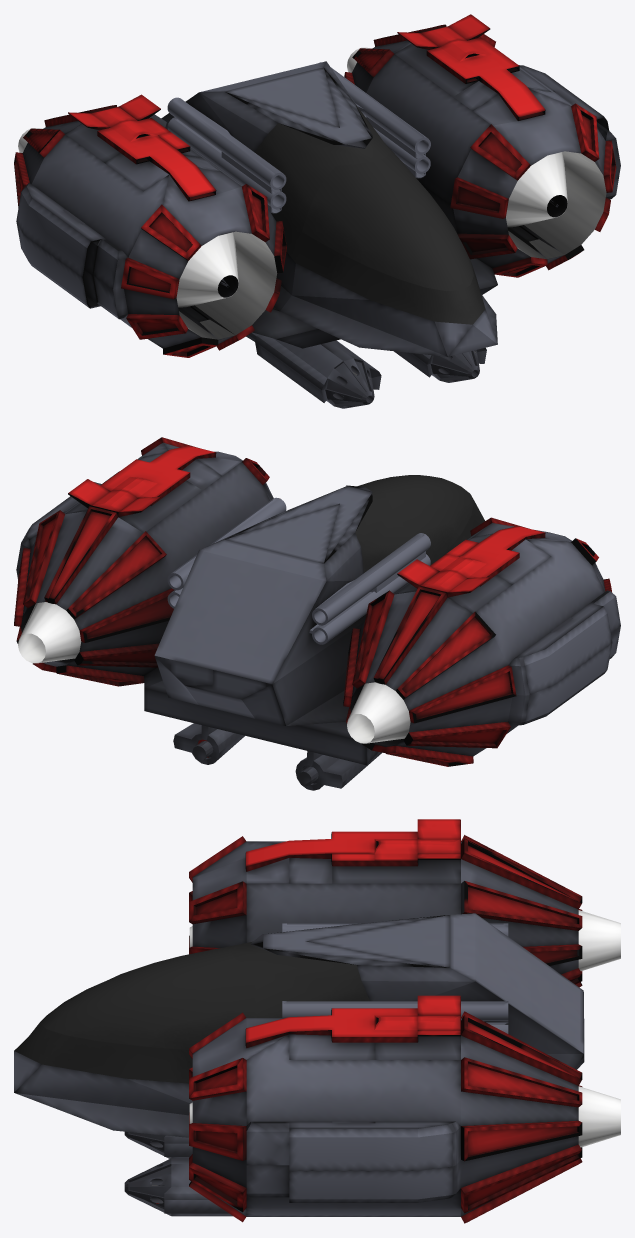
Rendered from 04ship.fbx.
3 renders of one model, top to bottom at view 1: azimuth 30°, elevation 25°; view 2: azimuth 150°, elevation 25°; view 3: azimuth 270°, elevation 25°, orthographic. The views are drawn at different scales.
Visible parts, largest first — view 1: Box01; view 2: Box01; view 3: Box01.
Boxes of the visible parts, box(x1,y1,x2,y2) form: Box01: box(14, 14, 620, 408); Box01: box(14, 437, 620, 790); Box01: box(14, 819, 620, 1223).
Size of the model in its own units: 333 by 141 by 301.
